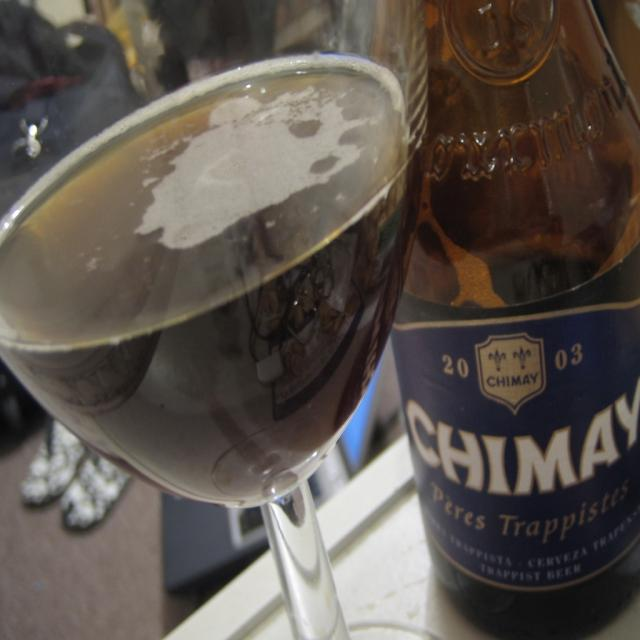chimay: (394, 303, 640, 602)
